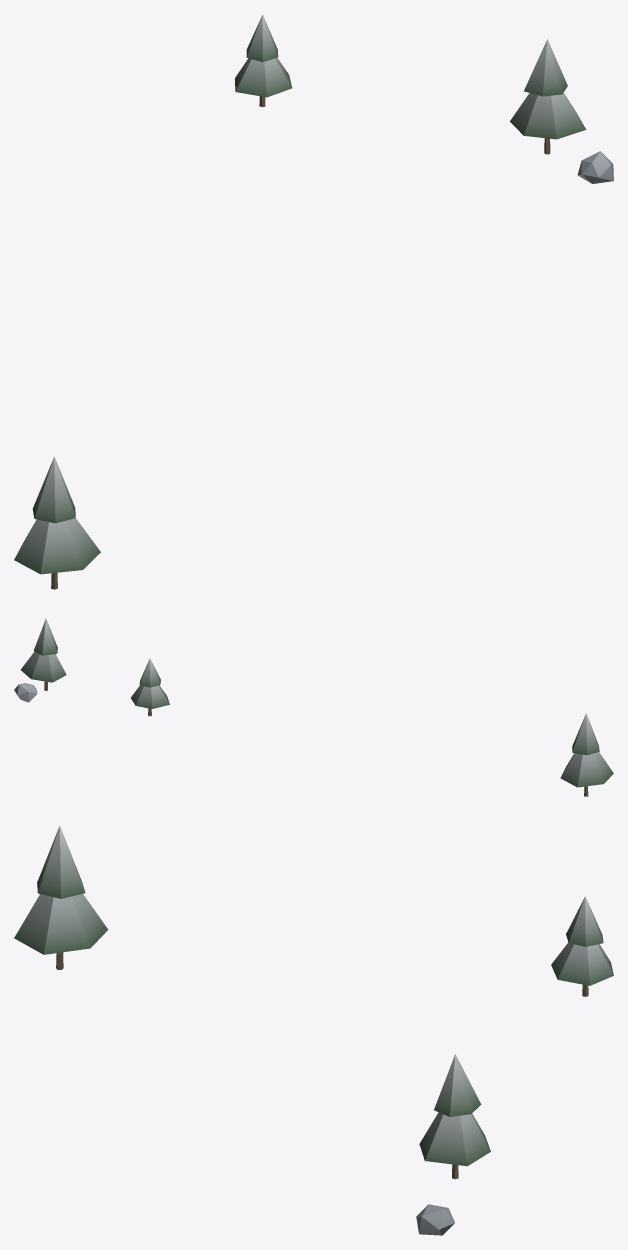
File: frost_land_scatter_c16_12_lod1.glb
The picture shows the model from 3 angles, top to bottom: view 1: azimuth 30°, elevation 25°; view 2: azimuth 150°, elevation 25°; view 3: azimuth 270°, elevation 25°; orthographic projection. The views are drawn at different scales.
Visible parts, largest first — view 1: frost_land_scatter_c16_12_lod1; view 2: frost_land_scatter_c16_12_lod1; view 3: frost_land_scatter_c16_12_lod1.
Part boxes in pixels (bbox=[...]): frost_land_scatter_c16_12_lod1: bbox=[14, 14, 613, 589]; frost_land_scatter_c16_12_lod1: bbox=[14, 618, 613, 796]; frost_land_scatter_c16_12_lod1: bbox=[14, 825, 613, 1235].
Bounding box in the file's own units: 84.21 × 30.04 × 52.55.
